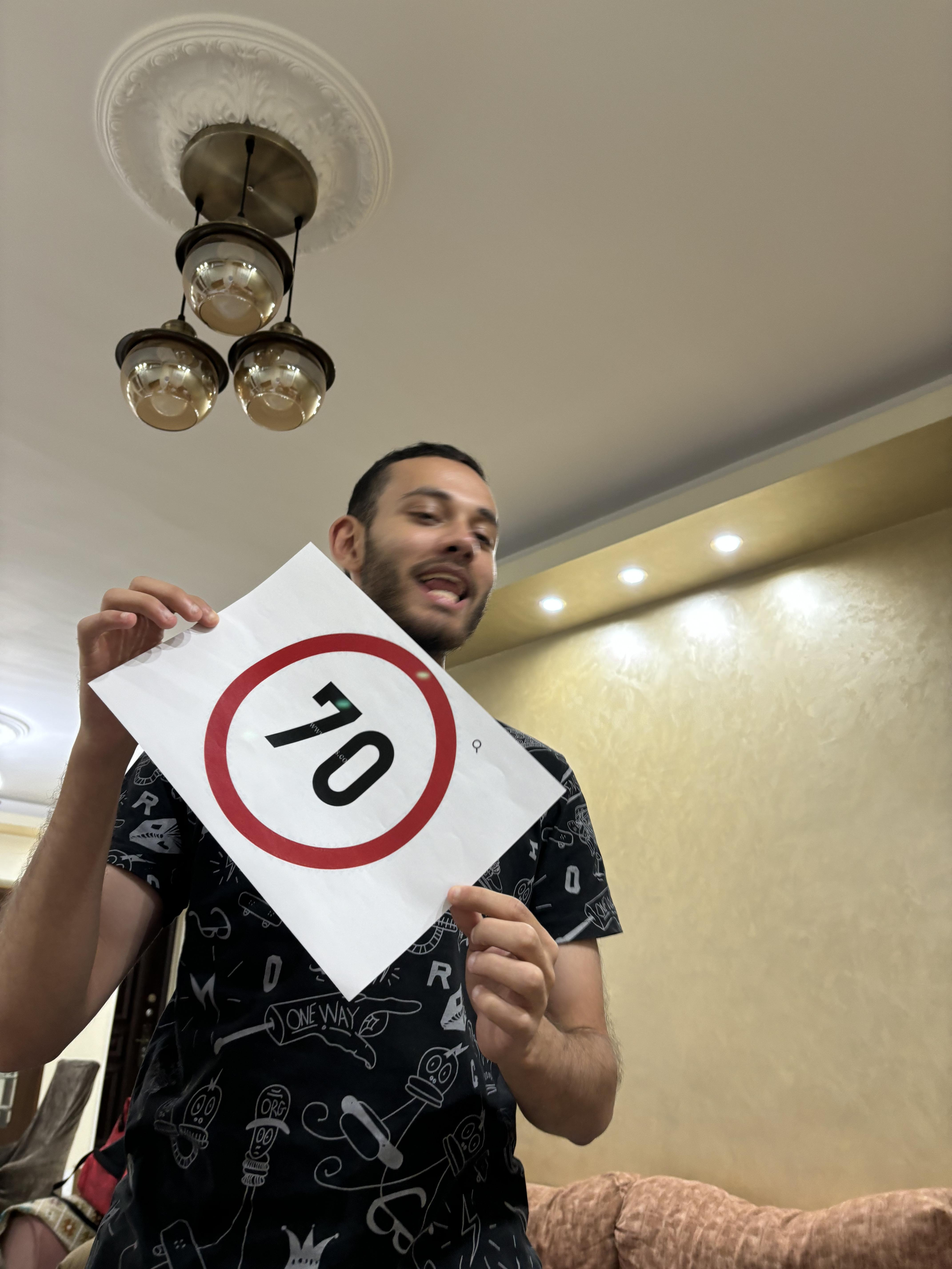70-Speed: (198, 625, 463, 870)
